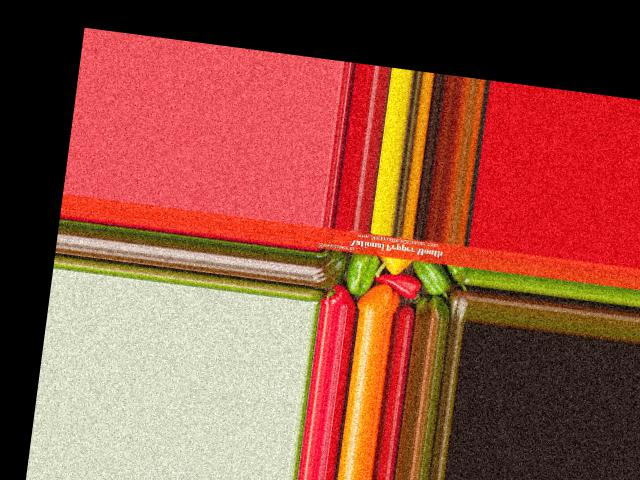bell_pepper: (312, 247, 347, 292)
